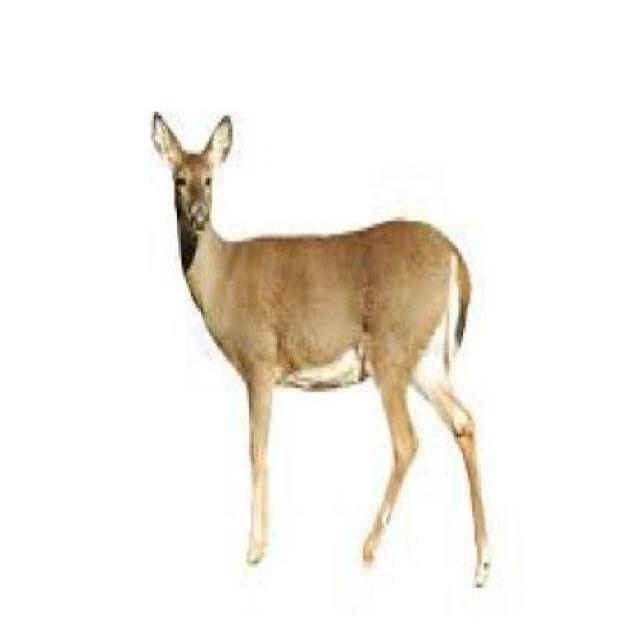deer: (140, 98, 497, 586)
